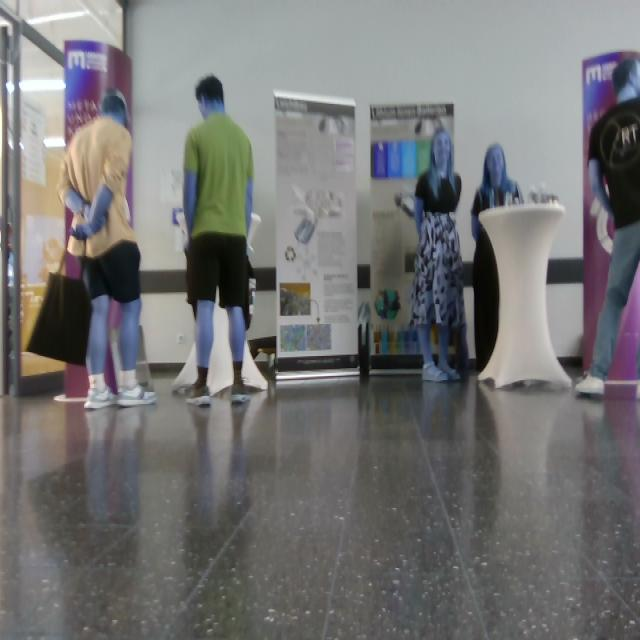light bulb: (295, 206, 317, 245), (246, 212, 262, 254)
person: (57, 91, 158, 411), (183, 75, 255, 407), (575, 58, 640, 400), (410, 128, 467, 382)
tiled floor: (1, 364, 640, 640)
